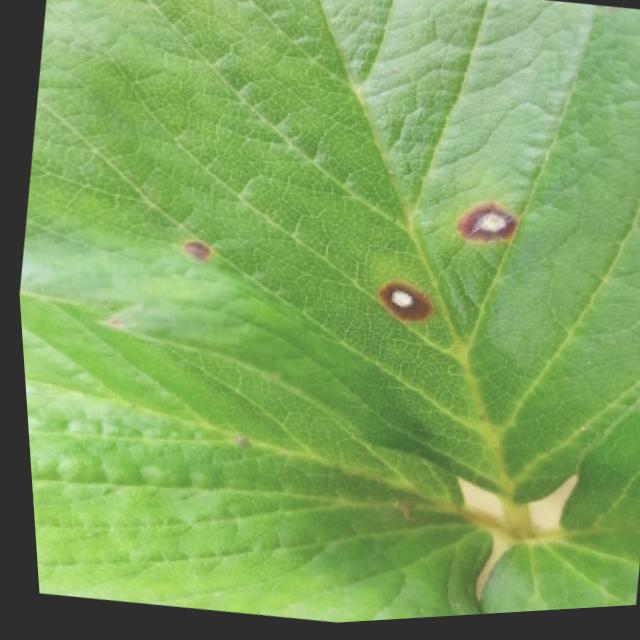Leaf Spot: (16, 0, 640, 511), (15, 293, 483, 626)
